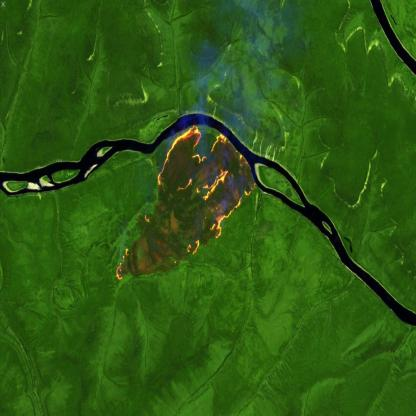fire: (114, 123, 258, 282)
